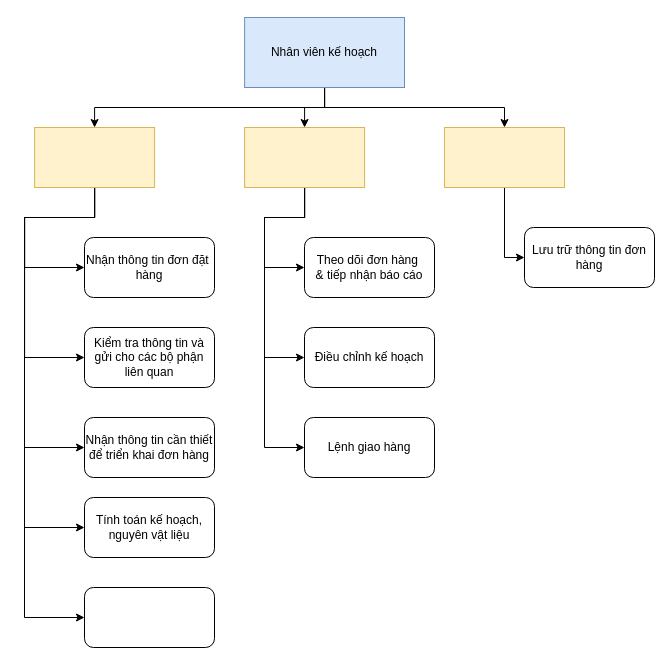
This 672x665 diagram has some shape labels left out. The box of each missing label's shape, as (x1, y1, x2, y2) in pixels:
Lệnh sản xuất: (84, 586, 214, 648)
Sản xuất: (244, 126, 365, 188)
Thông tin: (444, 126, 564, 188)
Đơn hàng: (34, 126, 155, 188)
